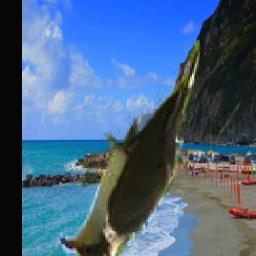Cuckoo: (56, 41, 201, 256)
